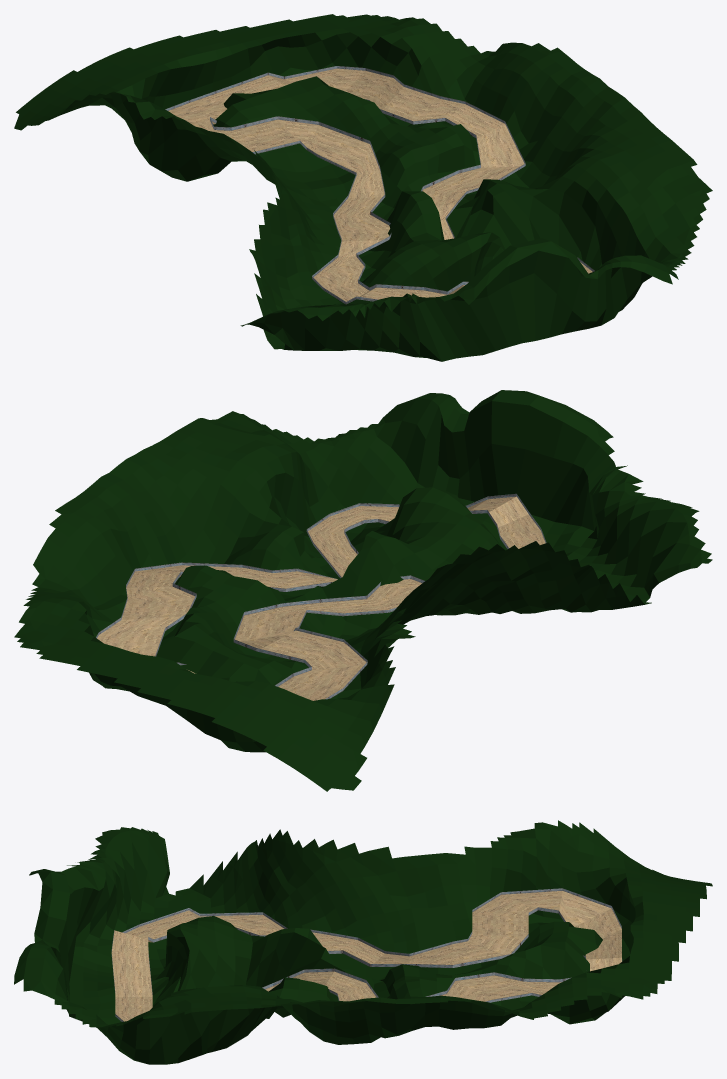
The model's file is bikeLevel.obj.
The picture shows the model from 3 angles, top to bottom: view 1: azimuth 30°, elevation 25°; view 2: azimuth 150°, elevation 25°; view 3: azimuth 270°, elevation 25°; orthographic projection. The views are drawn at different scales.
Visible parts, largest first — view 1: Plane.001, Plane; view 2: Plane.001, Plane; view 3: Plane.001, Plane.
Part boxes in pixels (left/top/right/bottom): Plane.001: left=14, top=14, right=712, bottom=361; Plane: left=165, top=66, right=594, bottom=304; Plane.001: left=14, top=390, right=712, bottom=791; Plane: left=96, top=493, right=546, bottom=700; Plane.001: left=14, top=820, right=712, bottom=1064; Plane: left=111, top=888, right=622, bottom=1021.
Size of the model in its own units: 180 by 50.04 by 247.
